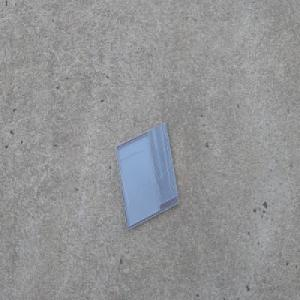PlasticPart: (114, 121, 179, 231)
